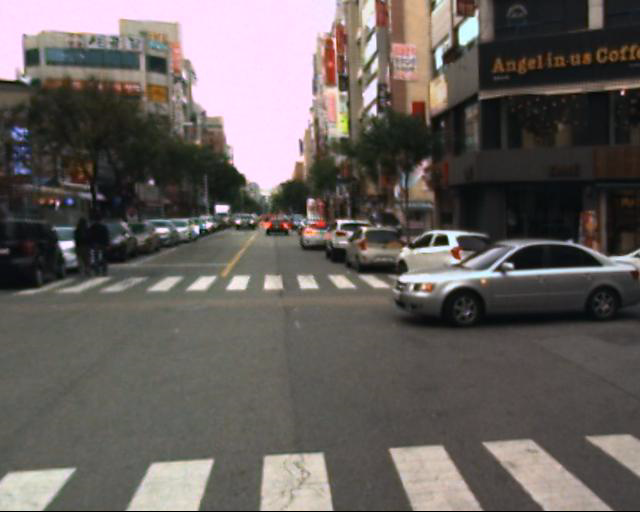person: (85, 204, 125, 279), (70, 208, 104, 281)
